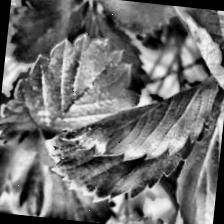Powdery Mildew Leaf: (62, 123, 112, 159)
